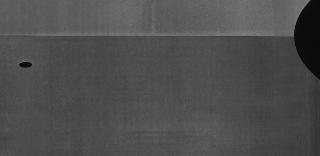punching hole: (17, 59, 35, 69)
welding line: (0, 32, 298, 42)
